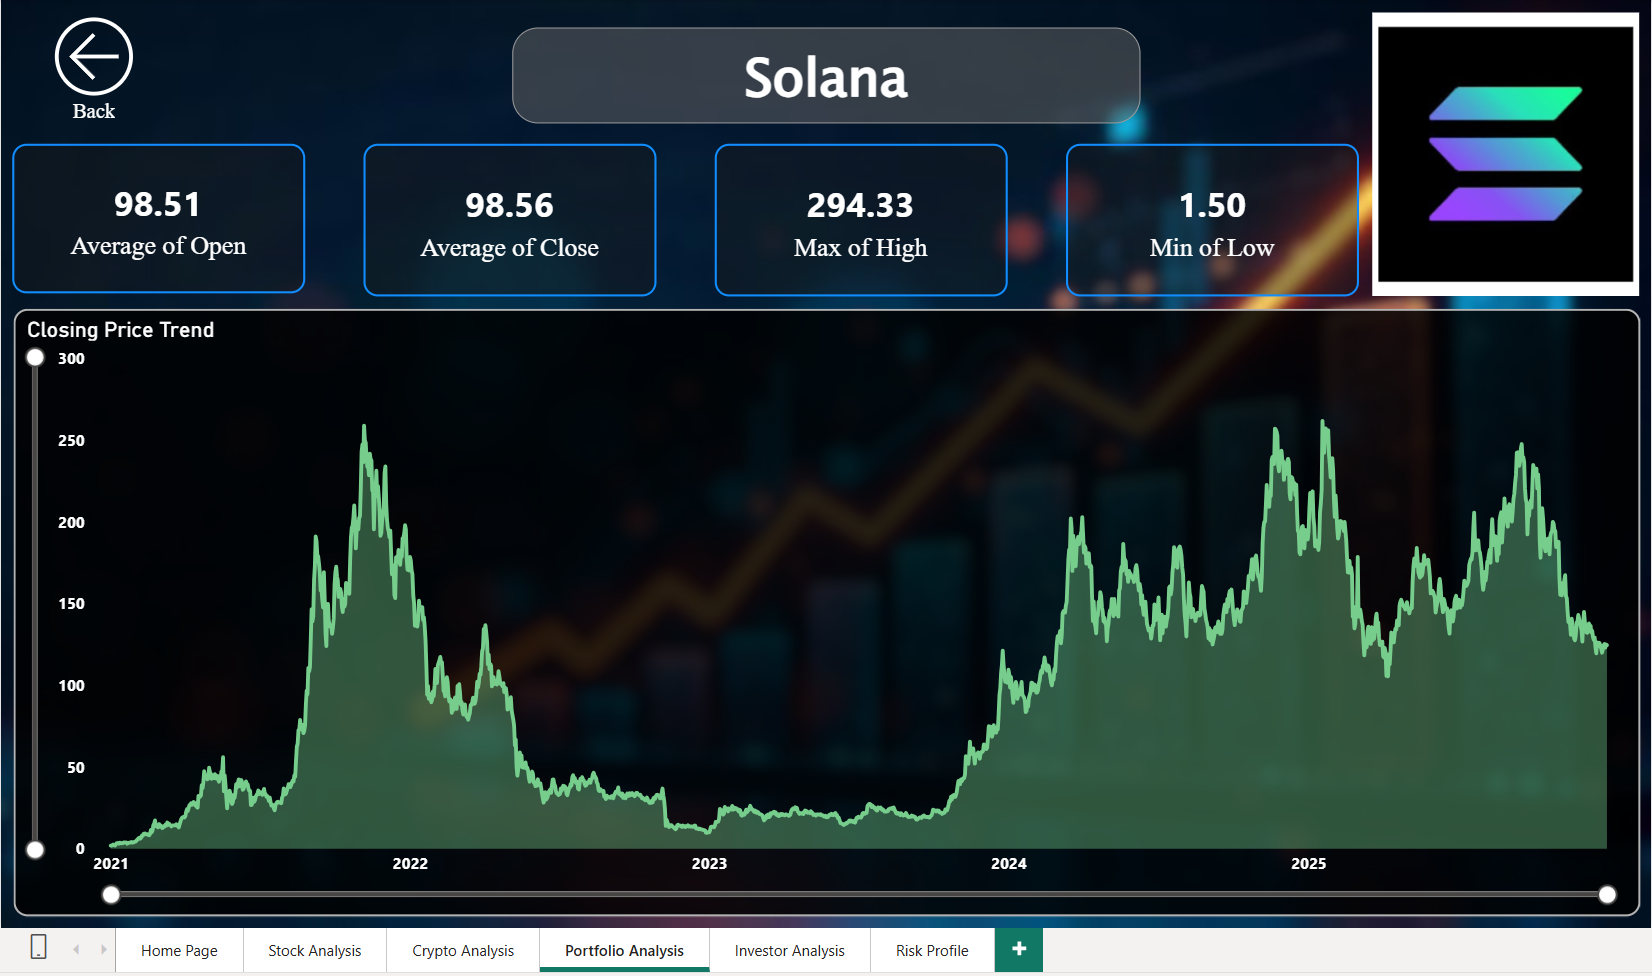

This screenshot's page, from the dashboard's own definition file:
{"tool":"powerbi","page":{"name":"Portfolio Analysis","canvas":[1280,720],"ordinal":3},"visuals":[{"type":"imageDB603108E3FF4EBFB8047F5653368E8C","fields":{"imageUrl":["Dim_Assets.Logo"]},"box":[1063.7,10,207.5,220],"z":0,"group":"g1"},{"type":"group","id":"g1","title":"Dashboard","box":[9,10,1262.2,701.2],"z":1000},{"type":"card","title":"A","fields":{"Values":["Avg(Facts_stock.Open)"]},"box":[9,111.8,227.6,116.4],"z":1000,"group":"g1"},{"type":"card","fields":{"Values":["Avg(Facts_stock.Close)"]},"box":[281.3,111.8,227.6,118.5],"z":2000,"group":"g1"},{"type":"card","fields":{"Values":["Max(Facts_stock.High)"]},"box":[553.6,111.8,227.6,118.5],"z":3000,"group":"g1"},{"type":"card","fields":{"Values":["Min(Facts_stock.Low)"]},"box":[825.9,111.8,227.6,118.5],"z":4000,"group":"g1"},{"type":"lineChart","title":"Closing Price Trend","fields":{"Category":["Facts_stock.Date"],"Y":["Avg(Facts_stock.Close)"]},"box":[10,240,1261.2,471.2],"z":5000,"group":"g1"},{"type":"card","fields":{"Values":["Min(Dim_Assets.AssetName)"]},"box":[397,21.6,487.2,74.4],"z":6000,"group":"g1"},{"type":"actionButton","box":[33.7,10,76.2,86.2],"z":7000,"group":"g1"}]}

Visuals, with their boxes in screenshot pixels (x1, y1, x2, y2):
imageDB603108E3FF4EBFB8047F5653368E8C - Dim_Assets.Logo: box(1371, 30, 1635, 310)
"Dashboard" group: box(29, 30, 1635, 922)
"A" card: box(29, 160, 318, 308)
card - Avg(Facts_stock.Close): box(375, 160, 665, 310)
card - Max(Facts_stock.High): box(722, 160, 1012, 310)
card - Min(Facts_stock.Low): box(1068, 160, 1358, 310)
"Closing Price Trend" lineChart: box(30, 323, 1635, 922)
card - Min(Dim_Assets.AssetName): box(523, 45, 1143, 139)
actionButton: box(60, 30, 157, 140)
